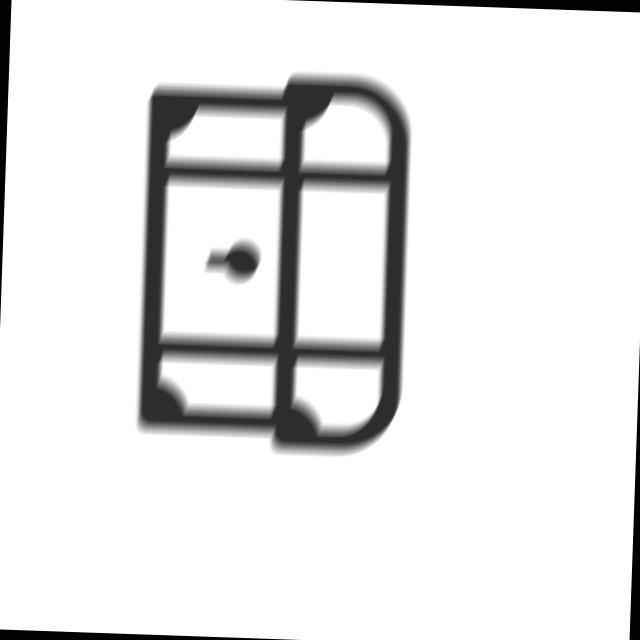treasure_box: (130, 61, 424, 469)
